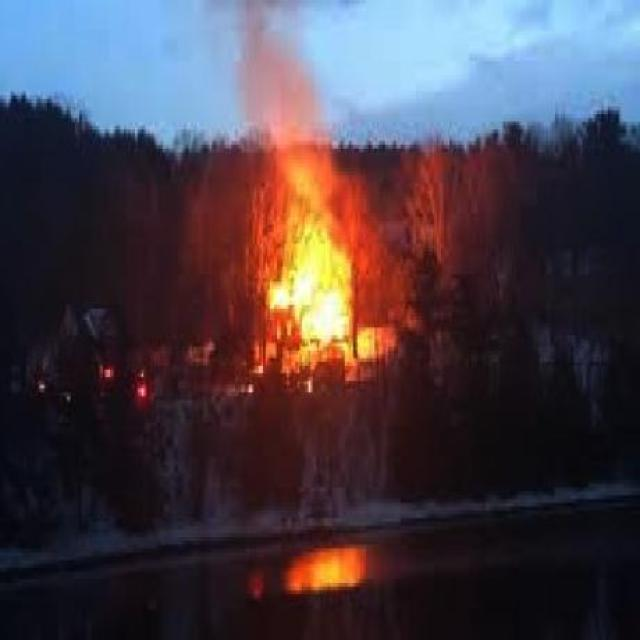Fire: (249, 191, 383, 360)
Smoke: (222, 4, 330, 133)
